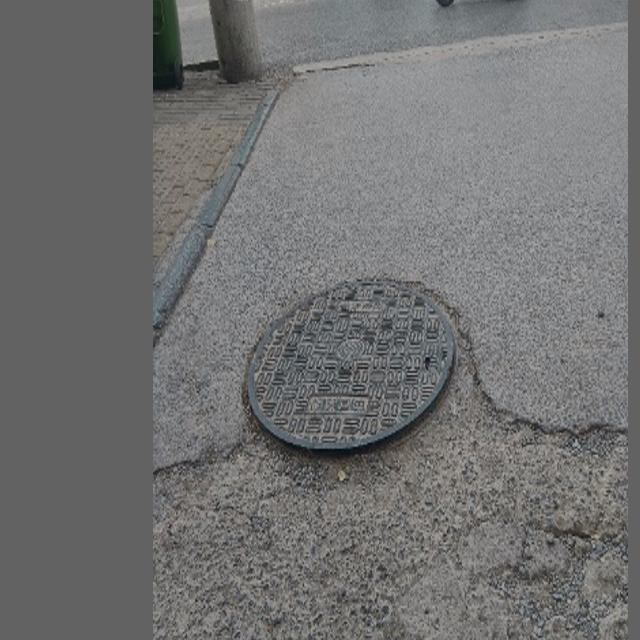good: (238, 279, 465, 452)
